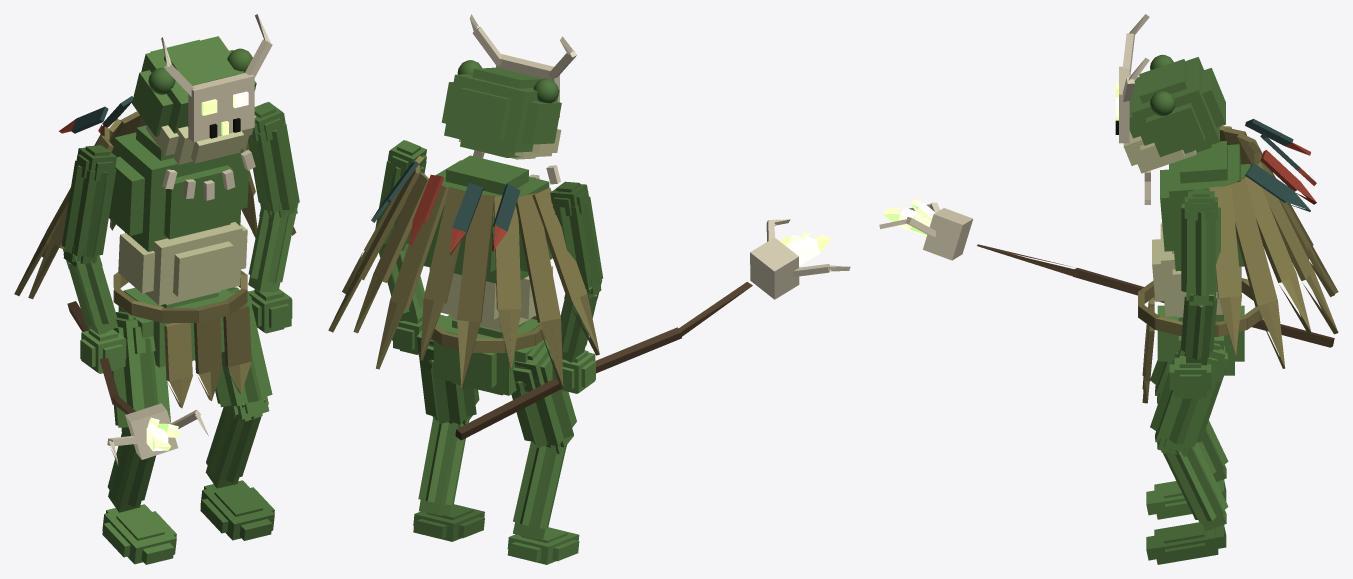
3 views of the same model, side by side, from view 1: azimuth 30°, elevation 25°; view 2: azimuth 150°, elevation 25°; view 3: azimuth 270°, elevation 25° (orthographic). The views are drawn at different scales.
Visible parts, largest first — view 1: MireShaman; view 2: MireShaman; view 3: MireShaman.
Boxes of the visible parts, x1,y1,x2,y2 form: MireShaman: [14, 14, 299, 564]; MireShaman: [328, 14, 850, 564]; MireShaman: [879, 14, 1338, 564].
Size of the model in its own units: 1.01 by 1.44 by 1.2.
